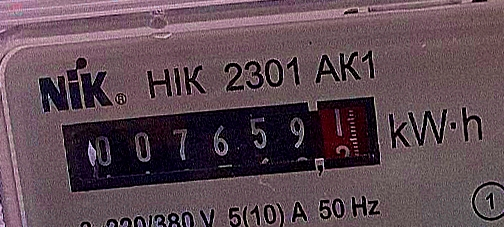0: (130, 127, 155, 166), (91, 130, 114, 170)
1: (328, 103, 347, 140)
5: (247, 113, 270, 152)
6: (207, 121, 232, 158)
7: (168, 124, 191, 163)
9: (285, 113, 309, 151)
screen: (51, 89, 391, 201)
